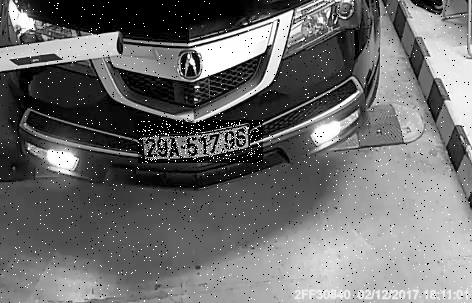License-plate: (139, 121, 264, 164)
